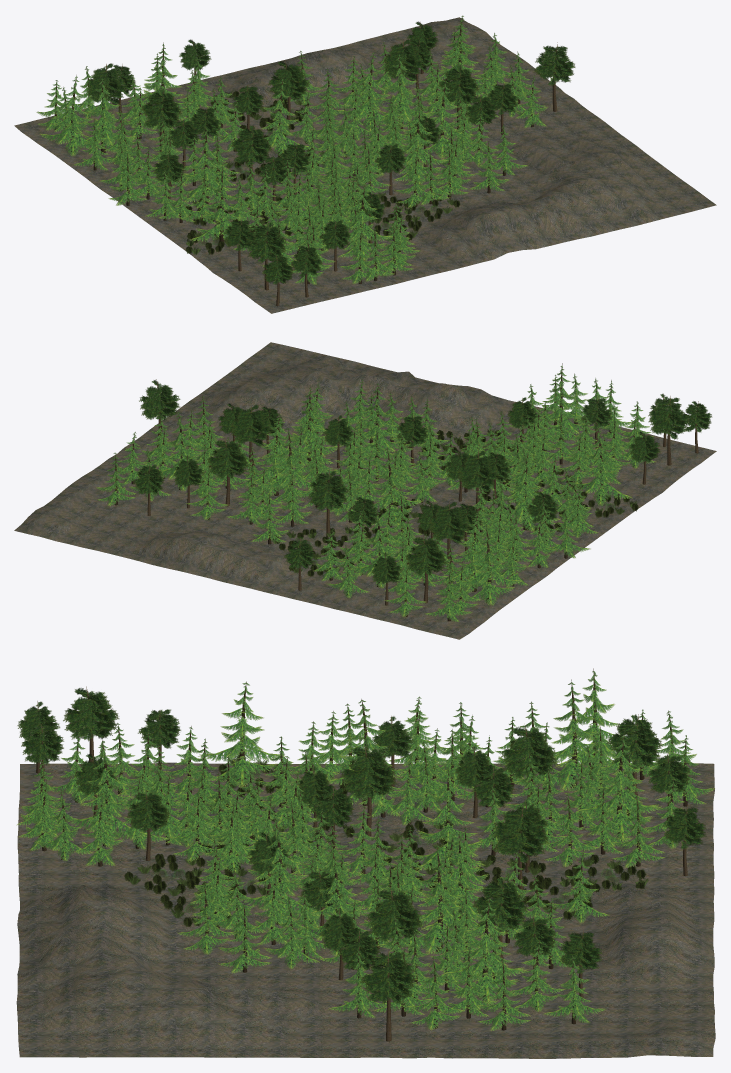
The model's file is forest.glb.
3 renders of one model, top to bottom at view 1: azimuth 30°, elevation 25°; view 2: azimuth 150°, elevation 25°; view 3: azimuth 270°, elevation 25°, orthographic. The views are drawn at different scales.
Parts seen in each view (by area): view 1: Object_2, Object_3, Object_8, Object_13, Object_11, Object_14, Object_12; view 2: Object_2, Object_3, Object_8, Object_13, Object_11, Object_14, Object_12; view 3: Object_2, Object_3, Object_8, Object_13, Object_11, Object_14, Object_12, Object_10.
Boxes of the visible parts, x1,y1,x2,y2 form: Object_2: [14, 17, 716, 313]; Object_3: [36, 16, 548, 285]; Object_8: [85, 21, 575, 284]; Object_13: [54, 15, 534, 284]; Object_11: [182, 91, 460, 254]; Object_14: [105, 22, 557, 306]; Object_12: [186, 91, 456, 254]; Object_2: [14, 342, 716, 639]; Object_3: [96, 366, 656, 621]; Object_8: [132, 380, 712, 583]; Object_13: [114, 363, 637, 621]; Object_11: [272, 430, 638, 576]; Object_14: [147, 379, 698, 605]; Object_12: [273, 429, 637, 573]; Object_2: [16, 762, 715, 1058]; Object_3: [16, 671, 714, 1030]; Object_8: [17, 688, 706, 1003]; Object_13: [39, 668, 687, 1030]; Object_11: [124, 755, 646, 927]; Object_14: [36, 686, 687, 1041]; Object_12: [127, 757, 648, 926]; Object_10: [155, 769, 617, 913].
Bounding box in the file's own units: 16.73 × 2.75 × 16.22.
8 materials, 8 textured.
